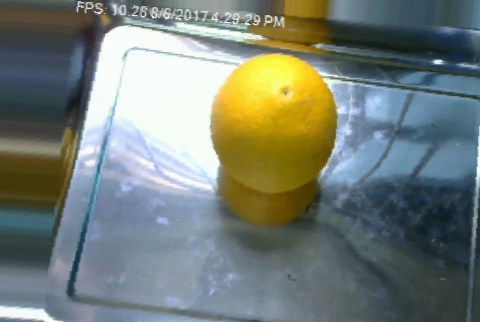Orange: (209, 52, 337, 193)
